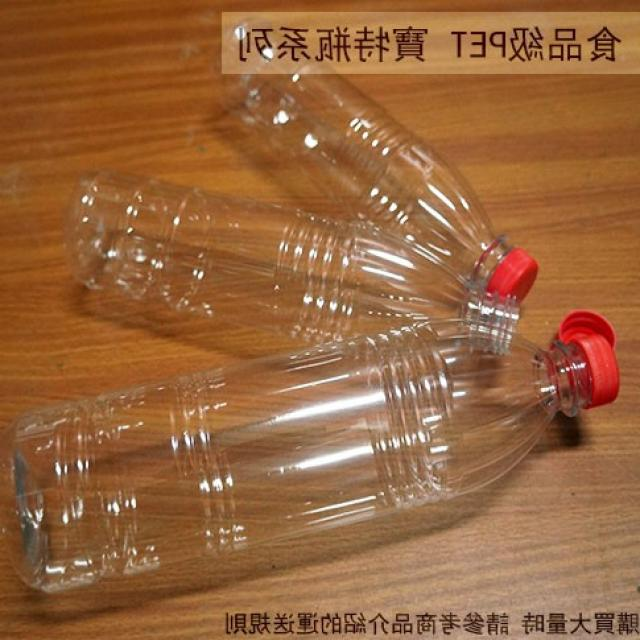plastic: (9, 330, 618, 592), (64, 52, 530, 324)
